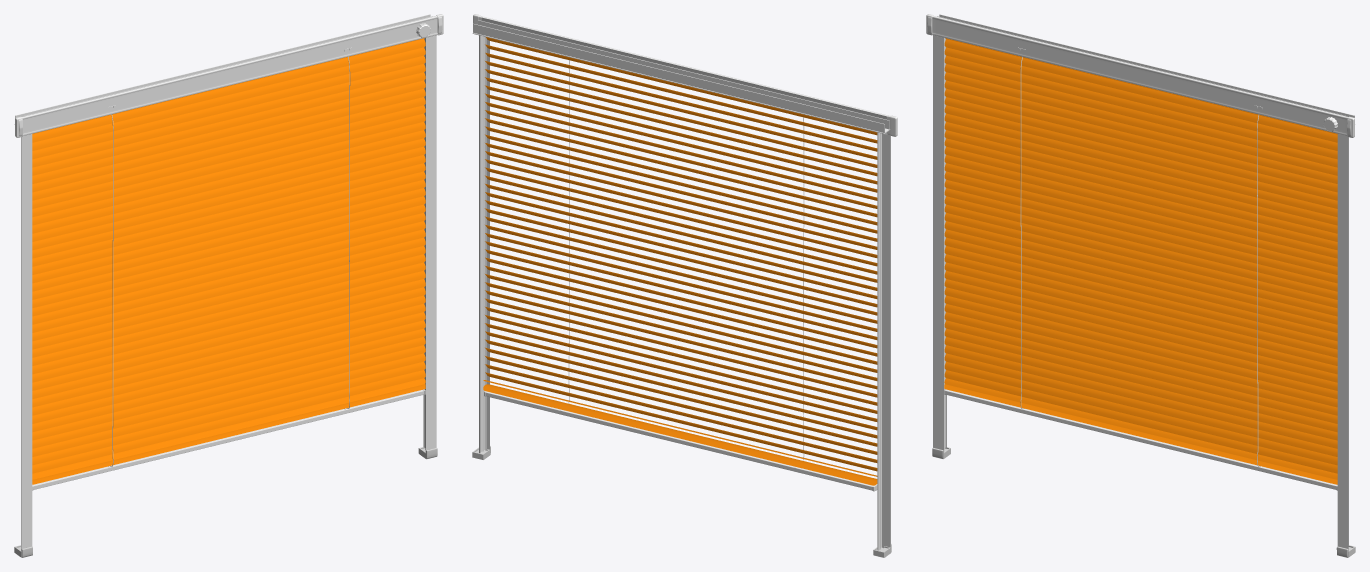
Rendered from Dachfenster.glb.
The picture shows the model from 3 angles, left to right: view 1: azimuth 30°, elevation 25°; view 2: azimuth 150°, elevation 25°; view 3: azimuth 330°, elevation 25°; orthographic projection.
Parts seen in each view (by area): view 1: Cube.052, Plane.002, Plane.004, jalousie.002, jalousie.014, jalousie.055, jalousie.063, jalousie.065, jalousie.003, jalousie.006, jalousie.013, jalousie.019 (+40 smaller); view 2: Plane.009, Plane.004, Plane.002, jalousie.005, Cube.038, Plane.008, jalousie.059, jalousie.060, jalousie.029, jalousie.064, jalousie.069, jalousie.007 (+40 smaller); view 3: Cube.052, Plane.004, Plane.002, jalousie.007, jalousie.052, jalousie.066, jalousie.067, jalousie.003, jalousie.013, jalousie.053, jalousie.054, jalousie.055 (+40 smaller).
Part boxes in pixels (x1,y1,x2,y2): Cube.052: (15,14,443,137); Plane.002: (423,35,436,452); Plane.004: (21,134,32,551); jalousie.002: (32,370,425,473); jalousie.014: (32,287,425,390); jalousie.055: (32,155,425,258); jalousie.063: (32,88,425,192); jalousie.065: (32,72,425,175); jalousie.003: (32,361,425,465); jalousie.006: (32,353,425,456); jalousie.013: (32,295,425,398); jalousie.019: (32,229,425,332); Plane.009: (472,20,890,133); Plane.004: (877,132,890,550); Plane.002: (479,35,489,453); jalousie.005: (483,384,877,483); Cube.038: (485,391,873,490); Plane.008: (481,17,887,134); jalousie.059: (485,126,877,225); jalousie.060: (485,118,877,217); jalousie.029: (485,274,877,372); jalousie.064: (485,85,877,184); jalousie.069: (485,44,877,143); jalousie.007: (485,347,877,446); Cube.052: (926,14,1354,137); Plane.004: (933,35,946,452); Plane.002: (1337,134,1348,551); jalousie.007: (944,345,1337,448); jalousie.052: (944,179,1337,283); jalousie.066: (944,64,1337,167); jalousie.067: (944,55,1337,159); jalousie.003: (944,361,1337,465); jalousie.013: (944,295,1337,398); jalousie.053: (944,171,1337,274); jalousie.054: (944,163,1337,266); jalousie.055: (944,155,1337,258).
Size of the model in its own units: 0.9994 by 0.9857 by 0.0436.
Materials: 6 (1 with a texture image).
